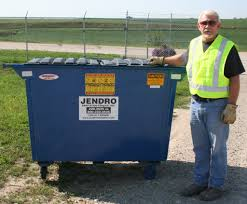Dumpster: (15, 54, 184, 184)
Person: (151, 7, 244, 202)
